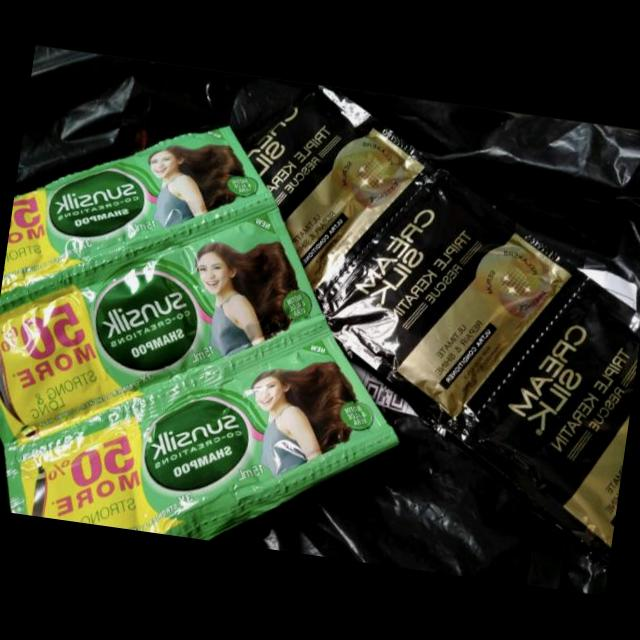goi_nhua_nho: (3, 313, 398, 540), (0, 206, 324, 443), (316, 167, 583, 437), (449, 274, 640, 565), (0, 127, 277, 315), (246, 86, 436, 302)
